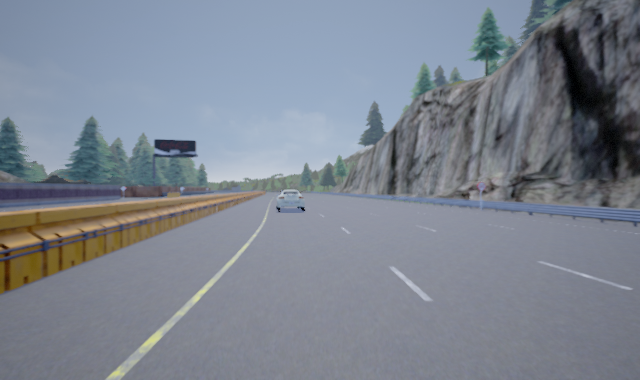vehicle: (276, 189, 306, 212)
